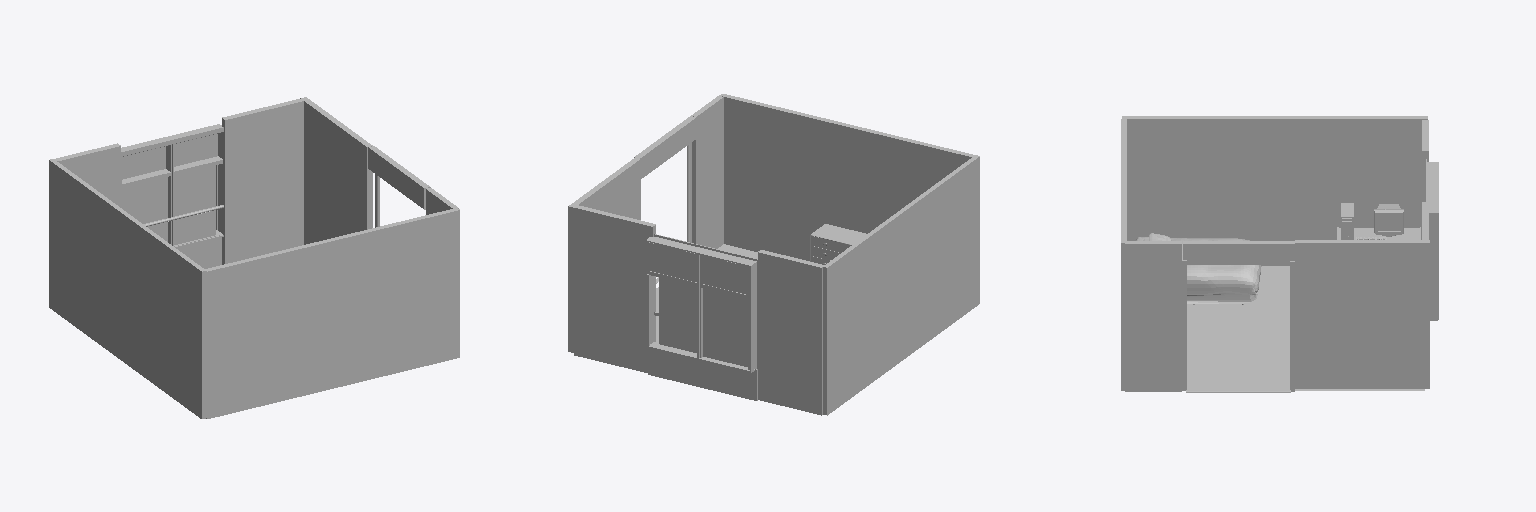
Rendered from simpleroom.obj.
3 views of the same model, side by side, from view 1: azimuth 30°, elevation 25°; view 2: azimuth 150°, elevation 25°; view 3: azimuth 270°, elevation 25° (orthographic).
Parts seen in each view (by area): view 1: pCube1, pCube2, pCube3, pCube4, group bedroom:bedroom_m bedroom:windows bedroom:pCube235, pCube8, group bedroom:bedroom_m bedroom:windows bedroom:pCube233, pCube6, group bedroom:bedroom_m bedroom:windows bedroom:pCube236, group bedroom:bedroom_m bedroom:windows bedroom:pCube237, pCube9, group bedroom:bedroom_m bedroom:windows bedroom:pCube128 (+1 smaller); view 2: pCube1, pCube2, pCube3, pCube8, pCube5, pCube4, group bedroom:bedroom_m bedroom:windows bedroom:pCube233, pCube9, group bedroom:bedroom_m bedroom:windows bedroom:pCube235, pCube6, group bedroom:bedroom_m bedroom:windows bedroom:pCube236, group bedroom:bedroom_m bedroom:windows bedroom:pCube237 (+3 smaller); view 3: pCube2, pCube4, pCube7, pCube5, pCube6, group bedroom:bedroom_m bedroom:bed bedroom:nurbsToSubd1, pCube1, group bedroom:bedroom_m bedroom:windows bedroom:pCube124, group bedroom:skirting bedroom:bedroom_m bedroom:polySurface134, group bedroom:polySurface132 bedroom:skirting bedroom:bedroom_m, group bedroom:bedroom_m bedroom:polyToSubd6 bedroom:bed, group bedroom:bedroom_m bedroom:windows bedroom:pCube122 (+1 smaller).
Part boxes in pixels (bbox=[...]): pCube1: bbox=[205, 208, 459, 418]; pCube2: bbox=[49, 159, 206, 418]; pCube3: bbox=[222, 99, 303, 264]; pCube4: bbox=[300, 97, 372, 244]; group bedroom:bedroom_m bedroom:windows bedroom:pCube235: bbox=[174, 165, 215, 244]; pCube8: bbox=[55, 143, 120, 207]; group bedroom:bedroom_m bedroom:windows bedroom:pCube233: bbox=[122, 177, 167, 241]; pCube6: bbox=[368, 146, 430, 209]; group bedroom:bedroom_m bedroom:windows bedroom:pCube236: bbox=[122, 146, 165, 179]; group bedroom:bedroom_m bedroom:windows bedroom:pCube237: bbox=[174, 134, 217, 166]; pCube9: bbox=[176, 237, 221, 268]; group bedroom:bedroom_m bedroom:windows bedroom:pCube128: bbox=[122, 156, 222, 187]; pCube1: bbox=[720, 94, 974, 260]; pCube2: bbox=[823, 155, 979, 415]; pCube3: bbox=[574, 205, 655, 372]; pCube8: bbox=[758, 250, 823, 415]; pCube5: bbox=[691, 95, 723, 248]; pCube4: bbox=[568, 157, 640, 352]; group bedroom:bedroom_m bedroom:windows bedroom:pCube233: bbox=[703, 288, 747, 366]; pCube9: bbox=[648, 348, 757, 400]; group bedroom:bedroom_m bedroom:windows bedroom:pCube235: bbox=[659, 277, 696, 352]; pCube6: bbox=[634, 116, 696, 178]; group bedroom:bedroom_m bedroom:windows bedroom:pCube236: bbox=[701, 255, 748, 294]; group bedroom:bedroom_m bedroom:windows bedroom:pCube237: bbox=[649, 242, 696, 281]; pCube2: bbox=[1122, 116, 1427, 265]; pCube4: bbox=[1295, 240, 1429, 388]; pCube7: bbox=[1187, 266, 1424, 390]; pCube5: bbox=[1125, 241, 1181, 391]; pCube6: bbox=[1183, 241, 1294, 264]; group bedroom:bedroom_m bedroom:bed bedroom:nurbsToSubd1: bbox=[1171, 238, 1261, 295]; pCube1: bbox=[1121, 119, 1126, 390]; group bedroom:bedroom_m bedroom:windows bedroom:pCube124: bbox=[1429, 213, 1438, 319]; group bedroom:skirting bedroom:bedroom_m bedroom:polySurface134: bbox=[1182, 260, 1186, 390]; group bedroom:polySurface132 bedroom:skirting bedroom:bedroom_m: bbox=[1290, 261, 1294, 391]; group bedroom:bedroom_m bedroom:polyToSubd6 bedroom:bed: bbox=[1187, 293, 1256, 303]; group bedroom:bedroom_m bedroom:windows bedroom:pCube122: bbox=[1427, 162, 1438, 212].
Size of the model in its own units: 4.51 by 2.42 by 4.67.